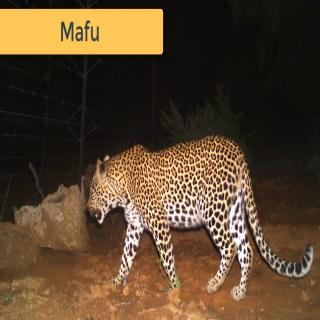Leopard: (87, 133, 314, 300)
